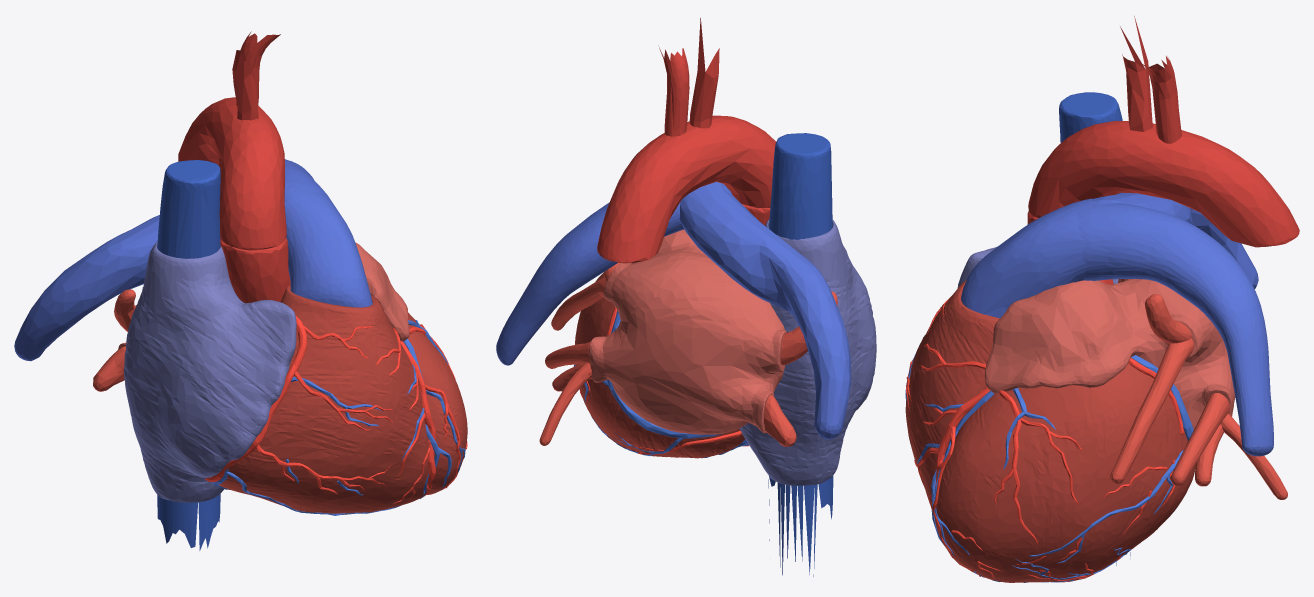
File: heart.glb
3 views of the same model, side by side, from view 1: azimuth 30°, elevation 25°; view 2: azimuth 150°, elevation 25°; view 3: azimuth 270°, elevation 25° (orthographic). The views are drawn at different scales.
Parts seen in each view (by area): view 1: ventricles, ratrium, pulmart, aorta, venacava, coronary, cardiacvein, latrium, pulmvein; view 2: latrium, pulmart, aorta, ratrium, venacava, pulmvein, ventricles, cardiacvein, coronary; view 3: ventricles, pulmart, aorta, latrium, pulmvein, coronary, cardiacvein, venacava.
Part boxes in pixels (x1,y1,x2,y2): ventricles: (212, 285, 467, 513); ratrium: (124, 241, 296, 502); pulmart: (14, 159, 372, 361); aorta: (178, 31, 290, 303); venacava: (157, 160, 220, 550); coronary: (205, 315, 467, 504); cardiacvein: (211, 320, 465, 515); latrium: (118, 242, 409, 349); pulmvein: (93, 289, 136, 391); latrium: (589, 229, 786, 434); pulmart: (496, 181, 851, 439); aorta: (597, 18, 776, 263); ratrium: (739, 219, 876, 485); venacava: (768, 133, 833, 576); pulmvein: (539, 262, 837, 446); ventricles: (575, 273, 744, 458); cardiacvein: (573, 310, 748, 458); coronary: (579, 306, 748, 454); ventricles: (905, 280, 1195, 582); pulmart: (961, 193, 1273, 456); aorta: (1027, 16, 1299, 284); latrium: (984, 279, 1235, 429); pulmvein: (1110, 294, 1287, 499); coronary: (906, 296, 1183, 582); cardiacvein: (905, 343, 1193, 582); venacava: (1059, 92, 1130, 565).
Size of the model in its own units: 0.1408 by 0.2129 by 0.1268.
